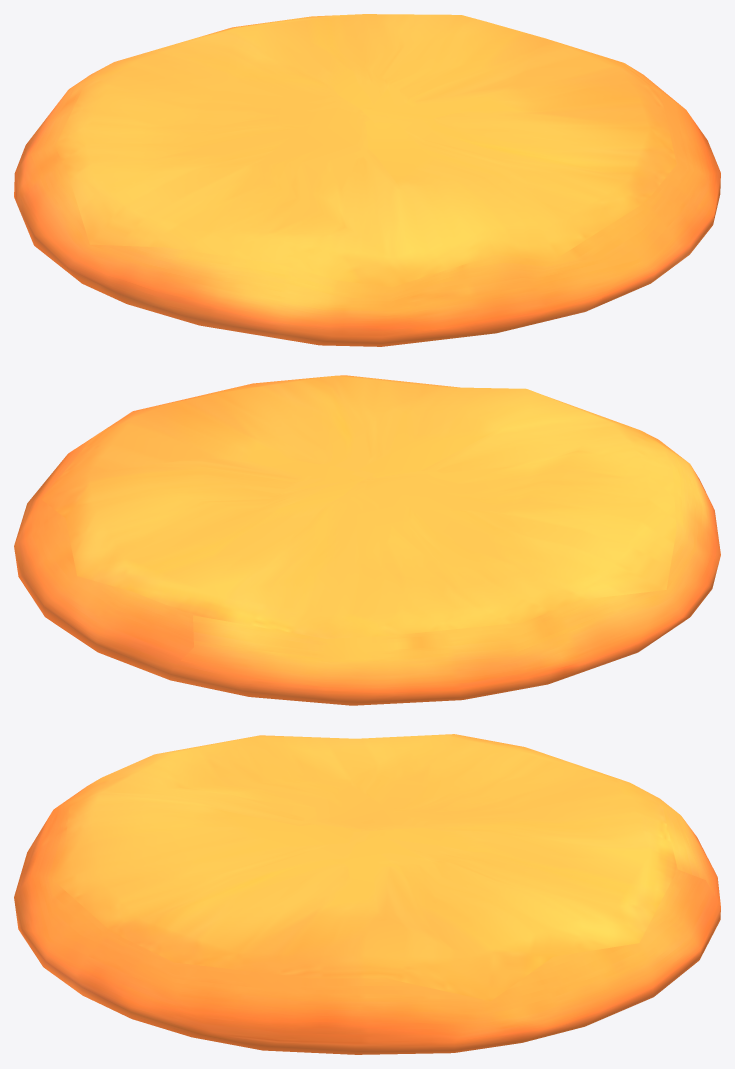
3 views of the same model, one above another, from view 1: azimuth 30°, elevation 25°; view 2: azimuth 150°, elevation 25°; view 3: azimuth 270°, elevation 25° (orthographic).
Visible parts, largest first — view 1: cookie; view 2: cookie; view 3: cookie.
Part boxes in pixels (left/top/right/bottom): cookie: left=14, top=14, right=720, bottom=346; cookie: left=14, top=375, right=720, bottom=705; cookie: left=14, top=734, right=720, bottom=1054.
Bounding box in the file's own units: 1.25 × 0.1602 × 1.25.
Materials: 1 (1 with a texture image).
